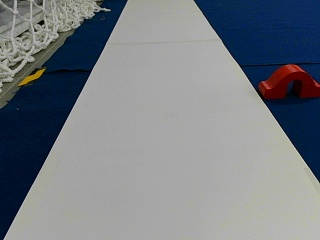bridge: (259, 65, 319, 96)
